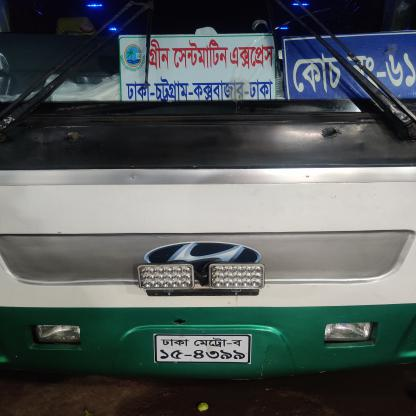license_plate: (150, 333, 257, 368)
